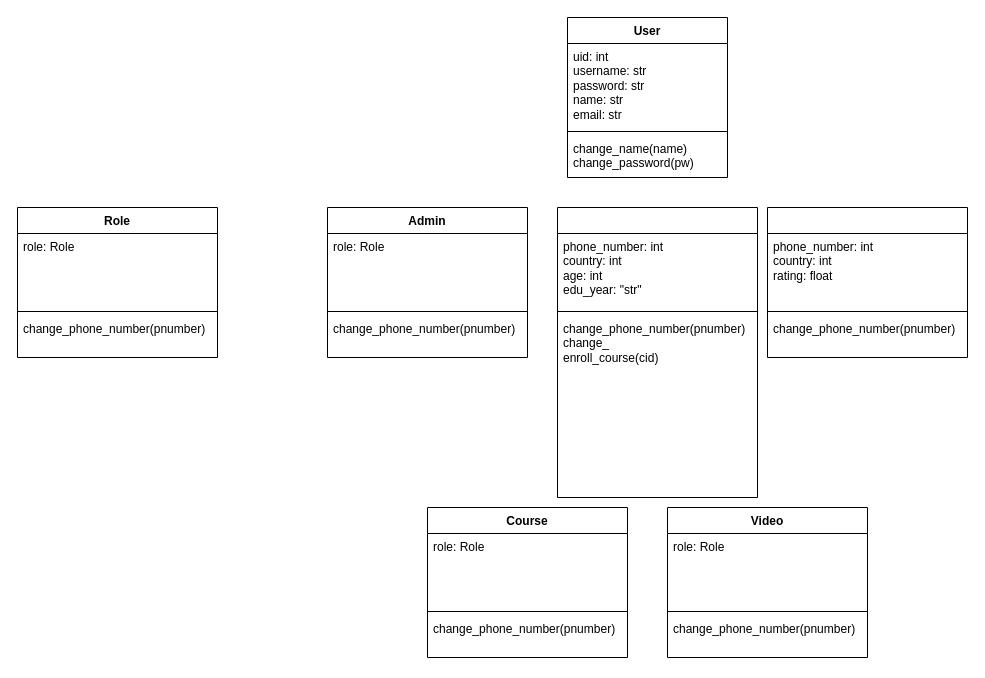
Some shapes in this 985 by 678 pixel diagram are drawn without their labels. Here are the shapes that lost their labels. From the top down, the box of each, then its label:
(766, 206, 968, 358): Teacher
(556, 206, 758, 498): Student
